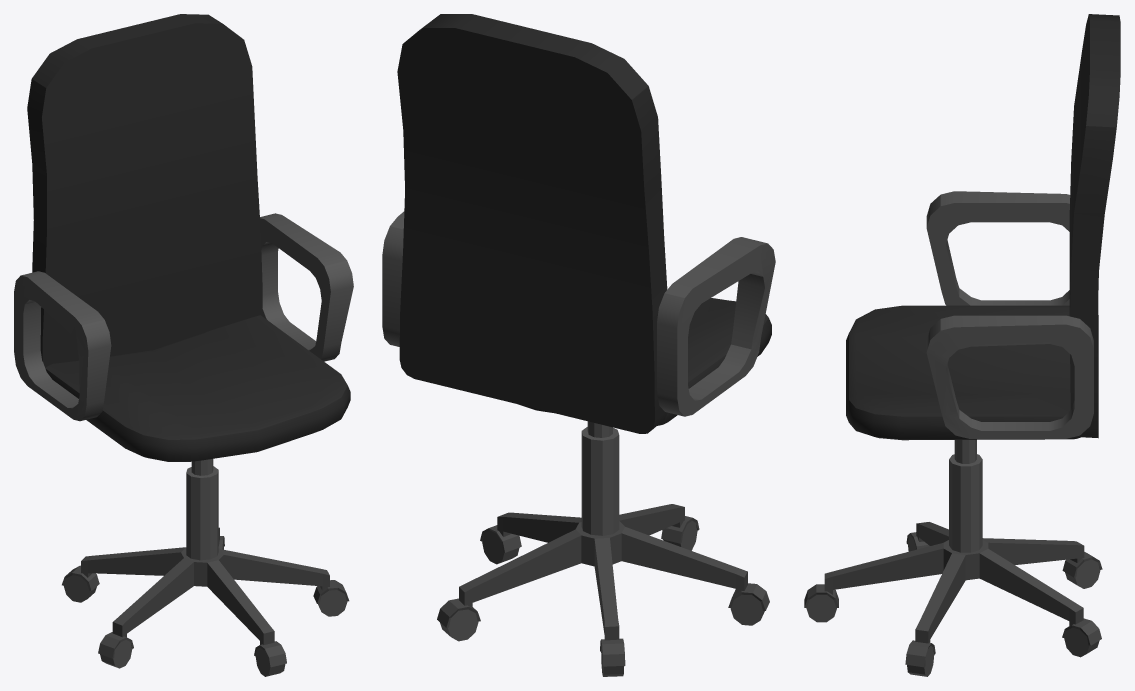
The model's file is SM_Props_Furniture_08.fbx.
The picture shows the model from 3 angles, left to right: view 1: azimuth 30°, elevation 25°; view 2: azimuth 150°, elevation 25°; view 3: azimuth 270°, elevation 25°; orthographic projection. The views are drawn at different scales.
Visible parts, largest first — view 1: SM_Props_Furniture_08; view 2: SM_Props_Furniture_08; view 3: SM_Props_Furniture_08.
Boxes of the visible parts, bbox=[...] form: SM_Props_Furniture_08: bbox=[14, 14, 353, 676]; SM_Props_Furniture_08: bbox=[382, 14, 775, 676]; SM_Props_Furniture_08: bbox=[804, 14, 1120, 676].
Size of the model in its own units: 0.5774 by 1.13 by 0.5669.
